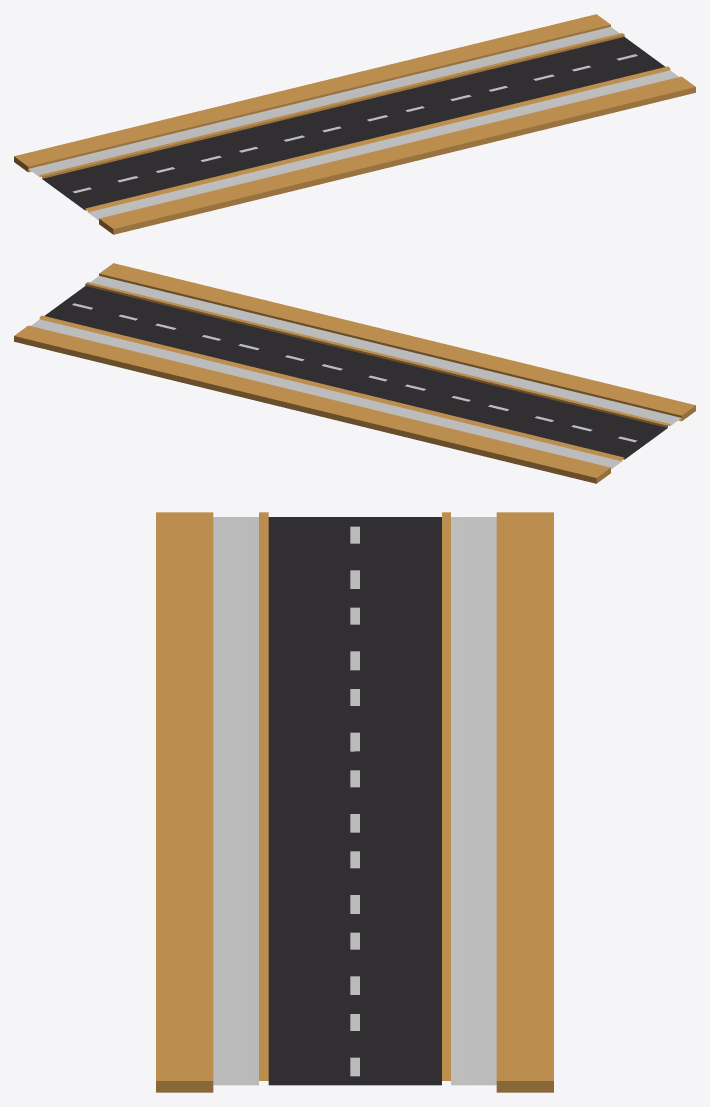
Rendered from Long.fbx.
The picture shows the model from 3 angles, top to bottom: view 1: azimuth 30°, elevation 25°; view 2: azimuth 150°, elevation 25°; view 3: azimuth 270°, elevation 25°; orthographic projection. The views are drawn at different scales.
Visible parts, largest first — view 1: Cube.003; view 2: Cube.003; view 3: Cube.003.
Boxes of the visible parts, x1=… form: Cube.003: x1=14, y1=14, x2=695, y2=234; Cube.003: x1=14, y1=263, x2=695, y2=483; Cube.003: x1=156, y1=512, x2=553, y2=1092.
Bounding box in the file's own units: 2349 × 22.21 × 695.
